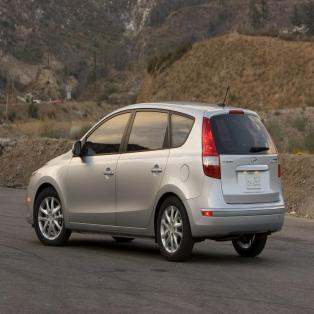Auto: (25, 83, 286, 260)
